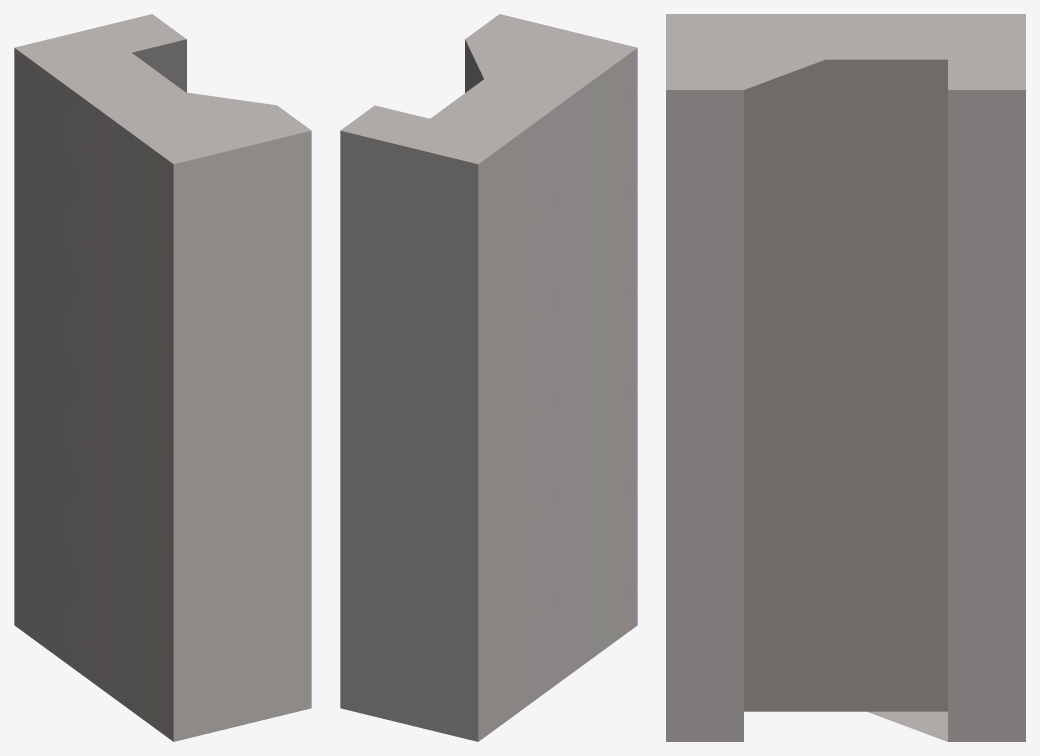
File: garageWalls.fbx
3 renders of one model, left to right at view 1: azimuth 30°, elevation 25°; view 2: azimuth 150°, elevation 25°; view 3: azimuth 270°, elevation 25°, orthographic. The views are drawn at different scales.
Visible parts, largest first — view 1: GarageWalls; view 2: GarageWalls; view 3: GarageWalls.
Boxes of the visible parts, box(x1,y1,x2,y2) form: GarageWalls: box(14, 14, 311, 741); GarageWalls: box(340, 14, 637, 741); GarageWalls: box(666, 14, 1025, 741).
Size of the model in its own units: 25 by 100 by 50.
